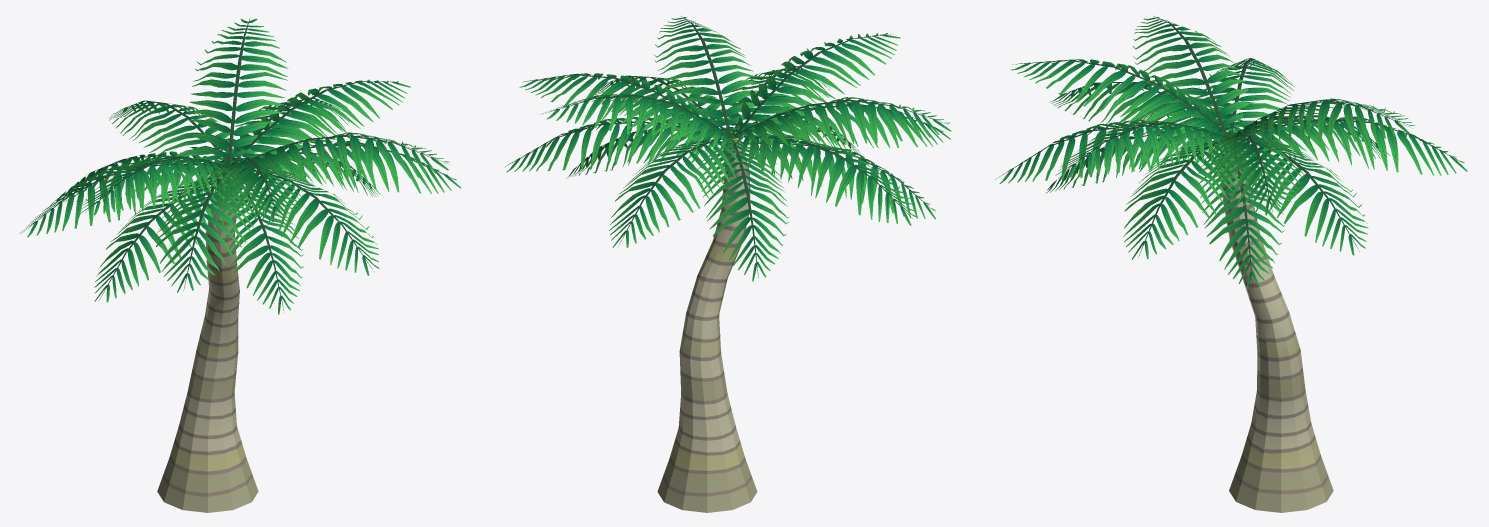
Rendered from Twisty_Palm.fbx.
The picture shows the model from 3 angles, left to right: view 1: azimuth 30°, elevation 25°; view 2: azimuth 150°, elevation 25°; view 3: azimuth 270°, elevation 25°; orthographic projection. The views are drawn at different scales.
Parts seen in each view (by area): view 1: pCylinder5, pPlane20, pPlane18, pPlane21, pPlane17, pPlane22, pPlane26, pPlane27, pPlane24, pPlane19, pPlane14, pPlane23 (+4 smaller); view 2: pCylinder5, pPlane22, pPlane23, pPlane14, pPlane25, pPlane19, pPlane24, pPlane15, pPlane21, pPlane20, pPlane26, pPlane18 (+3 smaller); view 3: pCylinder5, pPlane24, pPlane23, pPlane16, pPlane15, pPlane14, pPlane28, pPlane22, pPlane20, pPlane21, pPlane17, pPlane19 (+3 smaller).
Part boxes in pixels (x1,y1,x2,y2): pCylinder5: (157,164,258,512); pPlane20: (187,17,288,166); pPlane18: (156,168,265,292); pPlane21: (231,79,410,169); pPlane17: (226,167,379,275); pPlane22: (235,132,449,184); pPlane26: (94,177,238,302); pPlane27: (210,180,303,314); pPlane24: (80,155,245,215); pPlane19: (19,160,227,237); pPlane14: (109,100,242,166); pPlane23: (197,157,305,222); pCylinder5: (657,133,757,512); pPlane22: (653,16,760,134); pPlane23: (730,33,900,141); pPlane14: (608,136,747,247); pPlane25: (698,140,789,281); pPlane19: (734,134,917,225); pPlane24: (734,97,951,151); pPlane15: (504,117,718,172); pPlane21: (519,73,724,151); pPlane20: (540,93,733,155); pPlane26: (741,139,935,219); pPlane18: (737,102,950,151); pCylinder5: (1220,133,1333,512); pPlane24: (1132,16,1254,137); pPlane23: (1011,59,1229,150); pPlane16: (1123,137,1250,259); pPlane15: (1221,139,1368,255); pPlane14: (1234,116,1467,175); pPlane28: (1198,148,1284,290); pPlane22: (1055,120,1232,177); pPlane20: (1230,98,1414,150); pPlane21: (1200,134,1304,215); pPlane17: (995,119,1228,183); pPlane19: (1191,58,1294,134).
Size of the model in its own units: 36.84 by 35.51 by 37.08.
2 materials, 2 textured.
